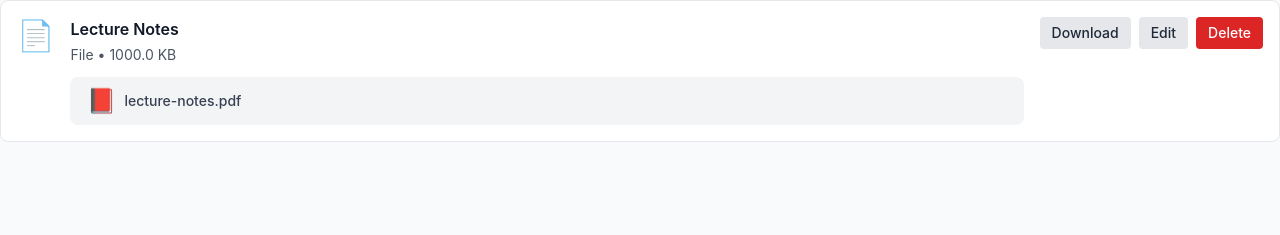
Test: MaterialList Component › Teacher Actions › should display error when deletion fails
Check: the heading "Lecture Notes" is shown, box [70,19,179,39]
Click the button "Delete".
click(1230, 33)  # box [1196,17,1263,49]
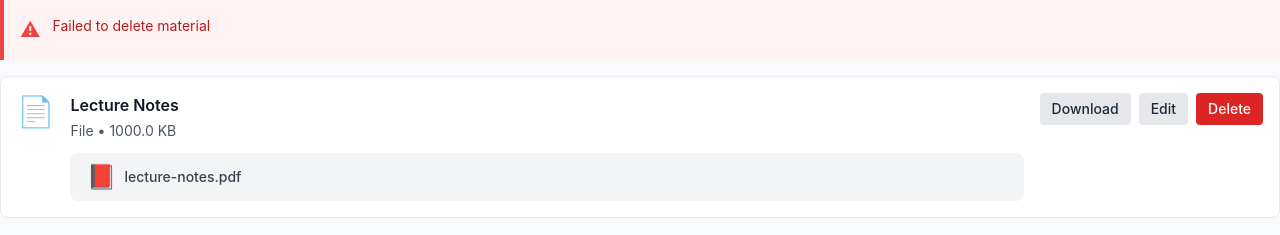
Check: the text "Failed to delete material" is shown, box [52,16,210,36]
